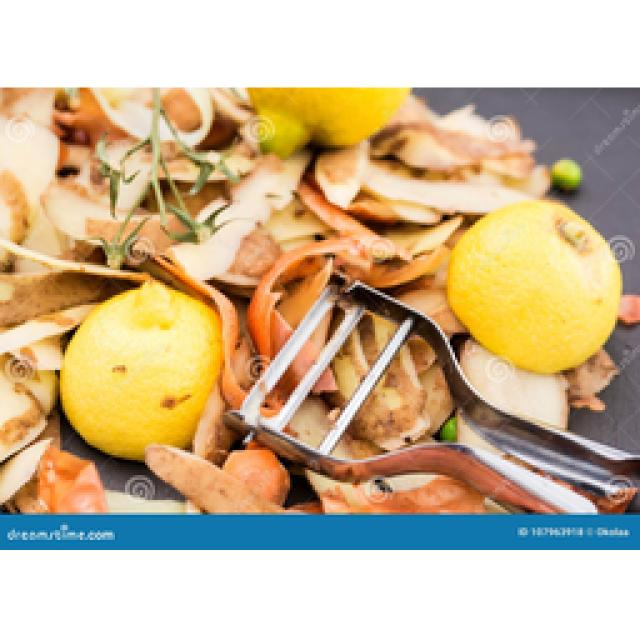food_waste: (0, 88, 638, 510)
